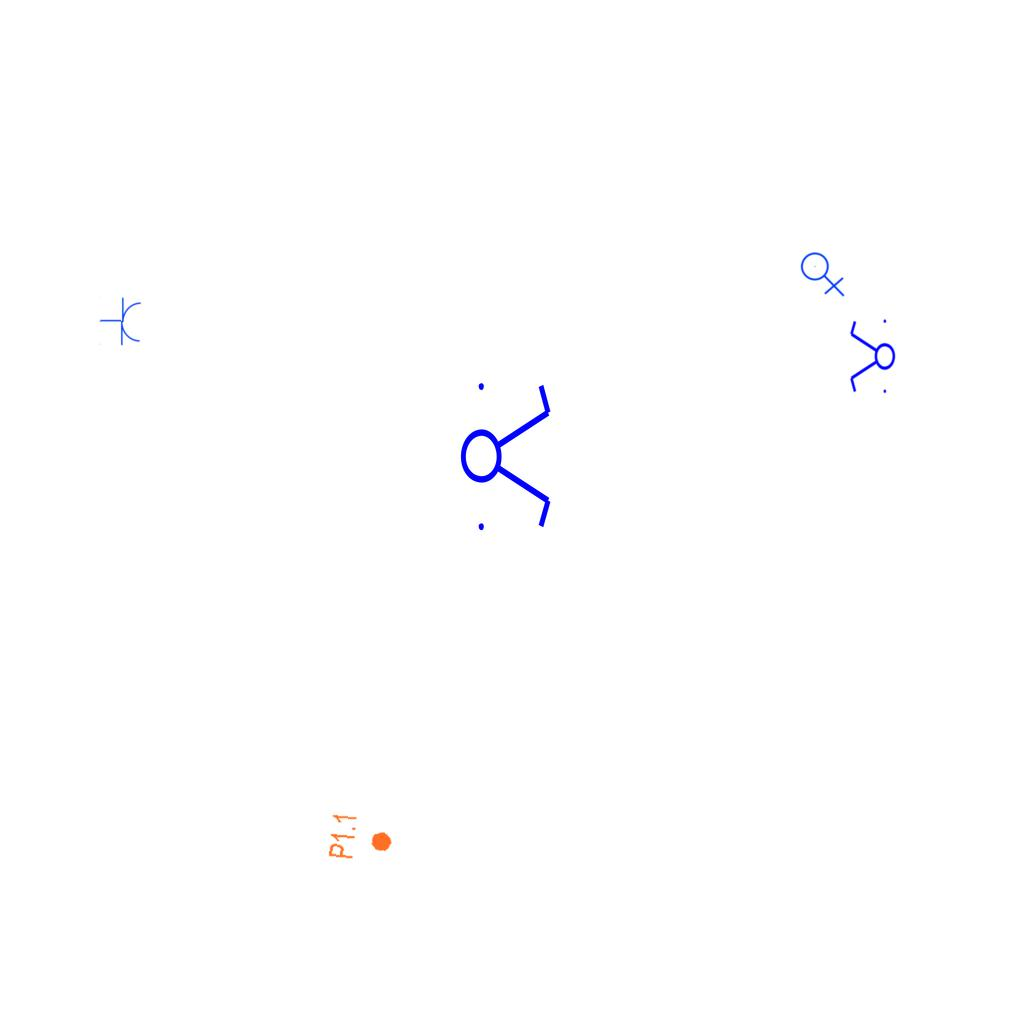Downlight_LED_Einbauleuchten_Flur: (326, 811, 396, 865)
Elektroanschluss_allgemein_230V_Geraeteanschlussdose_230V: (800, 248, 847, 297)
Schukosteckdose_einfach: (98, 295, 144, 348)
Serienschalter: (459, 371, 555, 539), (848, 315, 896, 399)
